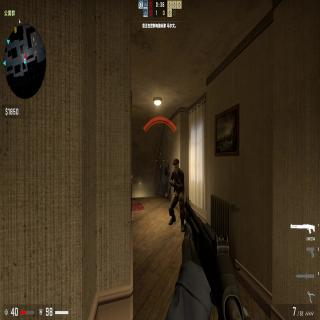T-Body: (168, 157, 185, 231)
T-Head: (172, 158, 180, 173)
